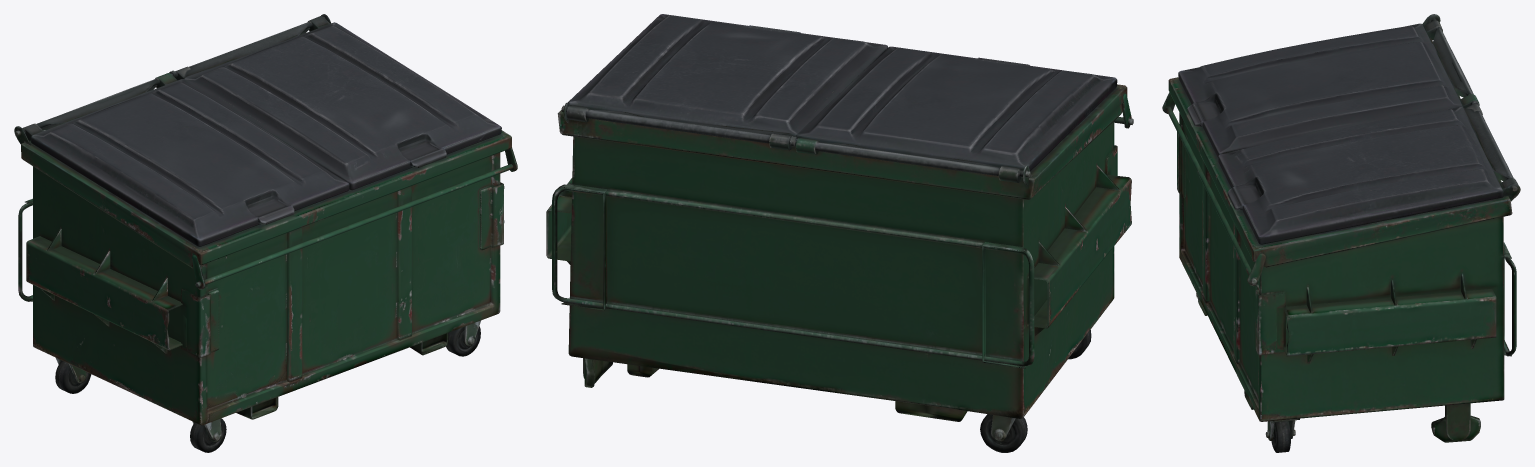
Rendered from SM_Dumpster.fbx.
3 renders of one model, left to right at view 1: azimuth 30°, elevation 25°; view 2: azimuth 150°, elevation 25°; view 3: azimuth 270°, elevation 25°, orthographic. The views are drawn at different scales.
Parts seen in each view (by area): view 1: c016f861_6d80_40b8_a671_af234f4e5c79; view 2: c016f861_6d80_40b8_a671_af234f4e5c79; view 3: c016f861_6d80_40b8_a671_af234f4e5c79.
Part boxes in pixels (<box>): c016f861_6d80_40b8_a671_af234f4e5c79: <box>14,14,517,452</box>; c016f861_6d80_40b8_a671_af234f4e5c79: <box>546,14,1133,452</box>; c016f861_6d80_40b8_a671_af234f4e5c79: <box>1162,14,1520,452</box>.
Bounding box in the file's own units: 0.9995 × 0.5962 × 0.7476.
1 material, 1 textured.
